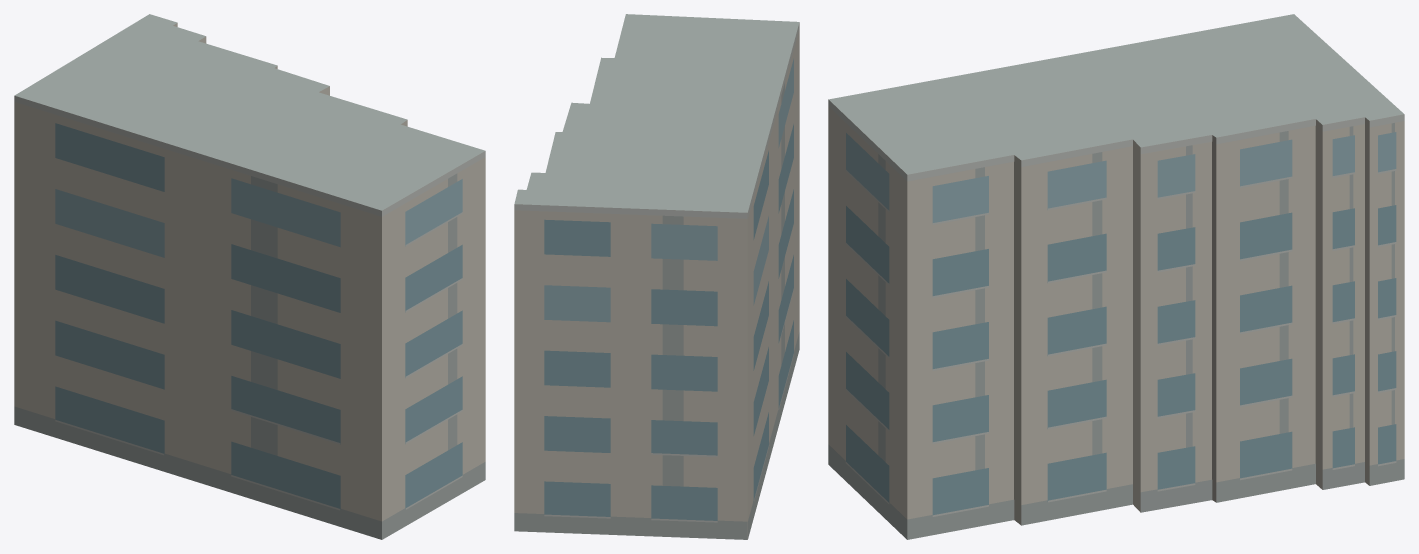
File: survey-upis-32884851.glb
3 views of the same model, side by side, from view 1: azimuth 30°, elevation 25°; view 2: azimuth 150°, elevation 25°; view 3: azimuth 270°, elevation 25° (orthographic). The views are drawn at different scales.
Parts seen in each view (by area): view 1: survey-upis-32884851.tmp; view 2: survey-upis-32884851.tmp; view 3: survey-upis-32884851.tmp.
Part boxes in pixels (x1,y1,x2,y2): survey-upis-32884851.tmp: (14,14,485,539); survey-upis-32884851.tmp: (514,14,799,539); survey-upis-32884851.tmp: (828,14,1404,539).
Bounding box in the file's own units: 12.38 × 13.1 × 18.74.
